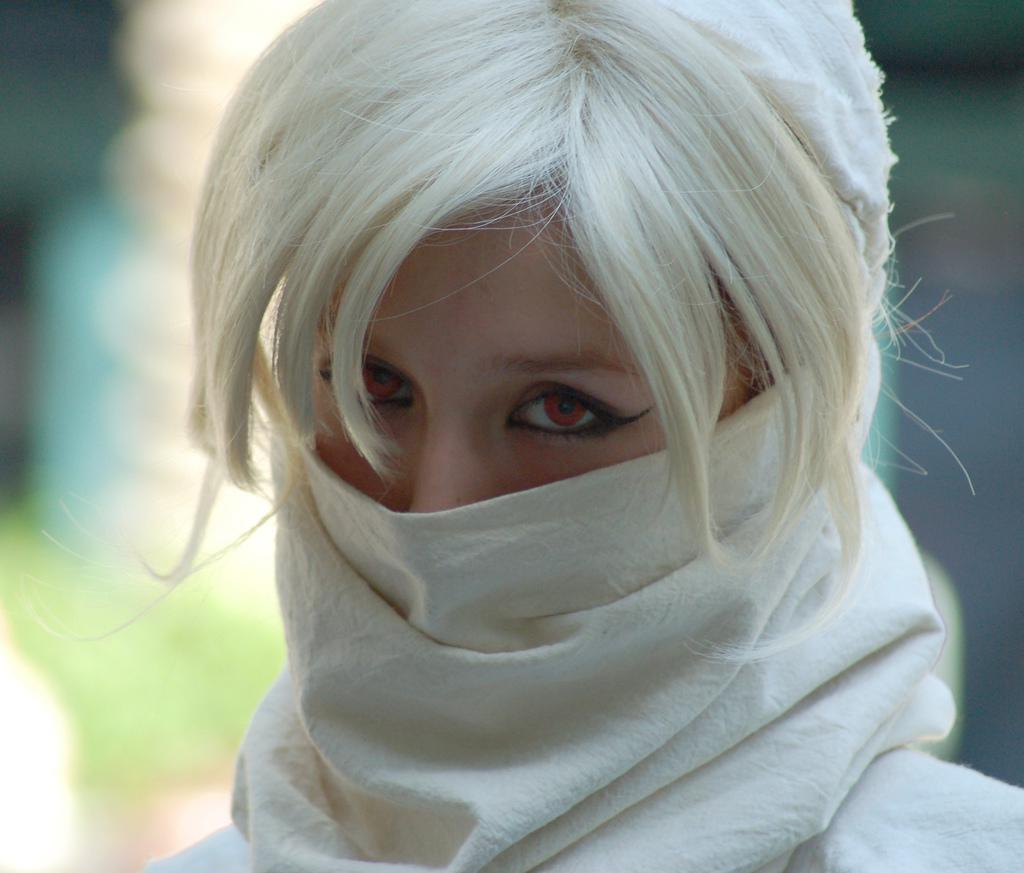WRONG: (239, 184, 791, 736)
